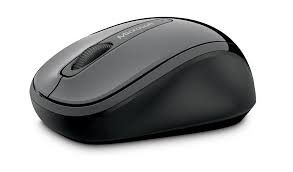mouse: (23, 12, 263, 146)
